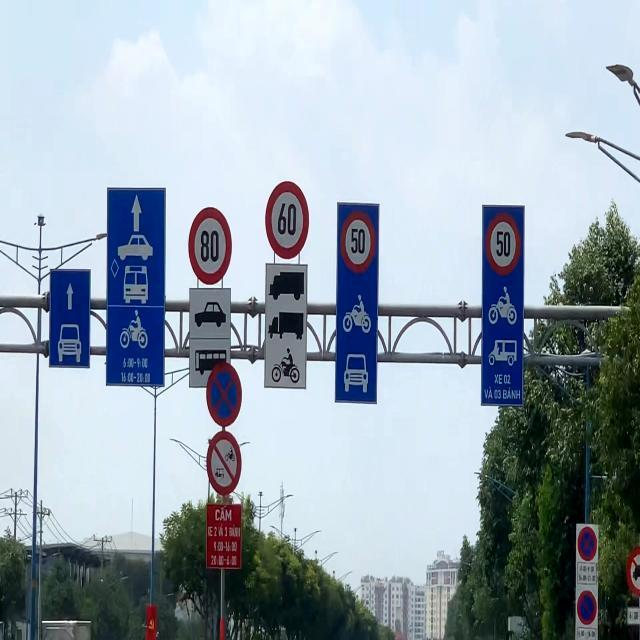Cam do xe: (577, 590, 597, 625)
Cam dung xe va do xe: (206, 362, 242, 427), (577, 526, 597, 561)
Toc do toi da cho phep: (265, 180, 310, 260), (188, 207, 232, 286), (340, 210, 376, 274), (486, 212, 520, 276)
